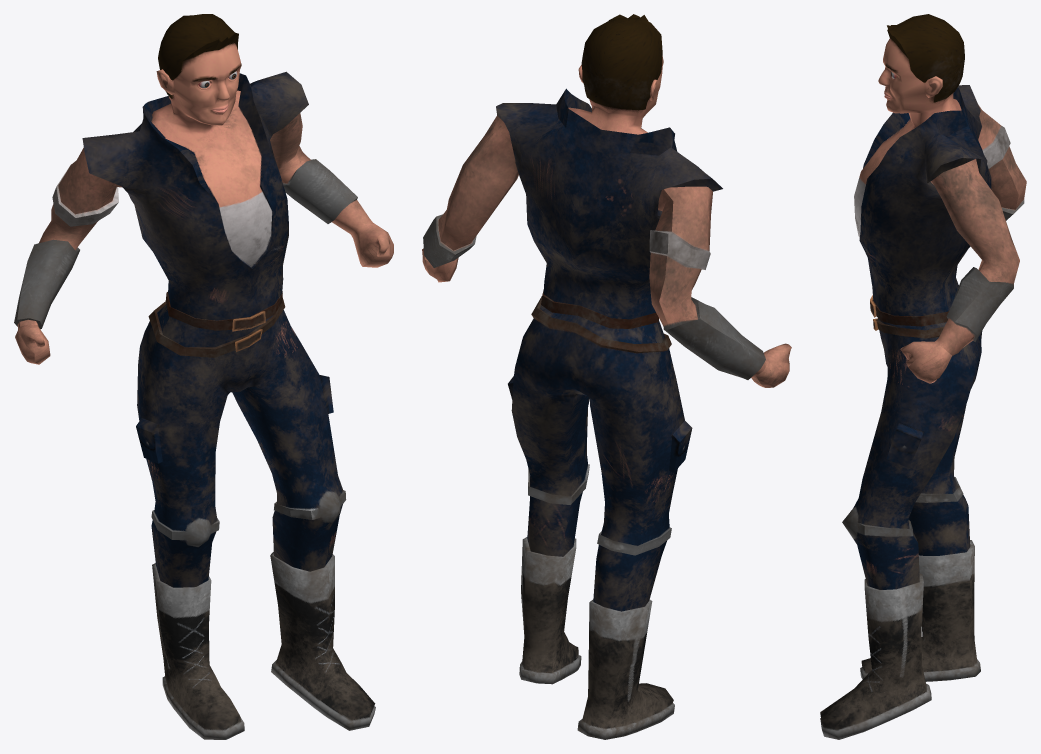
Rendered from Anim_ataque_d3_jugador.0051.obj.
The picture shows the model from 3 angles, left to right: view 1: azimuth 30°, elevation 25°; view 2: azimuth 150°, elevation 25°; view 3: azimuth 270°, elevation 25°; orthographic projection. The views are drawn at different scales.
Parts seen in each view (by area): view 1: polySurface1; view 2: polySurface1; view 3: polySurface1.
Part boxes in pixels (box(x1,y1,x2,y2)): polySurface1: box(14, 14, 393, 739); polySurface1: box(422, 14, 791, 739); polySurface1: box(820, 14, 1026, 739).
Size of the model in its own units: 5.28 by 9.74 by 2.75.
